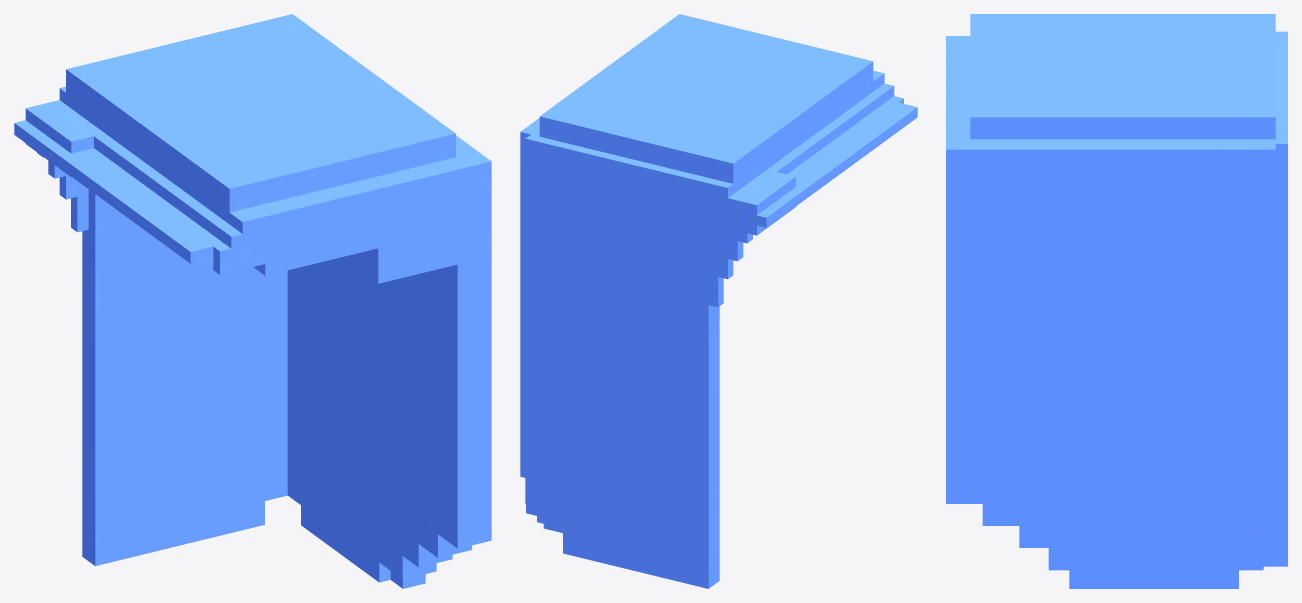
The model's file is side_part_blue.glb.
The picture shows the model from 3 angles, left to right: view 1: azimuth 30°, elevation 25°; view 2: azimuth 150°, elevation 25°; view 3: azimuth 270°, elevation 25°; orthographic projection. The views are drawn at different scales.
Visible parts, largest first — view 1: fem_side_part_uw.001; view 2: fem_side_part_uw.001; view 3: fem_side_part_uw.001.
Boxes of the visible parts, left/top/right/bottom form: fem_side_part_uw.001: left=14, top=14, right=491, bottom=588; fem_side_part_uw.001: left=520, top=14, right=917, bottom=588; fem_side_part_uw.001: left=946, top=14, right=1287, bottom=588.
Bounding box in the file's own units: 2.6 × 4.2 × 2.8.
Materials: 1 (1 with a texture image).
